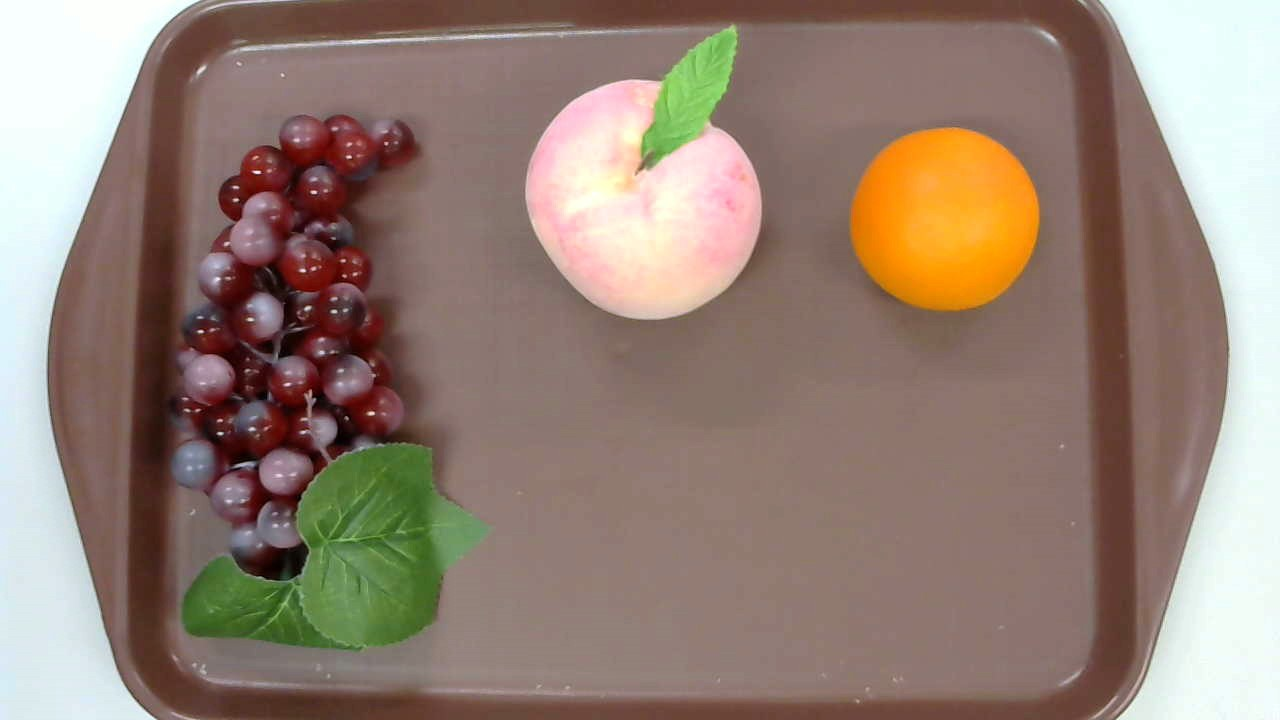bun: (850, 126, 1039, 312)
grape: (168, 114, 491, 652)
peach: (524, 24, 765, 321)
